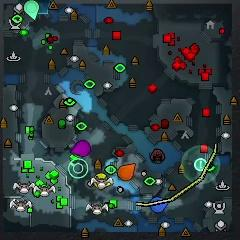Other: (194, 157, 207, 171)
p1: (150, 197, 168, 212)
p2: (24, 0, 39, 20)
p3: (70, 140, 91, 157)
p4: (93, 173, 112, 189)
p5: (117, 163, 136, 181)
